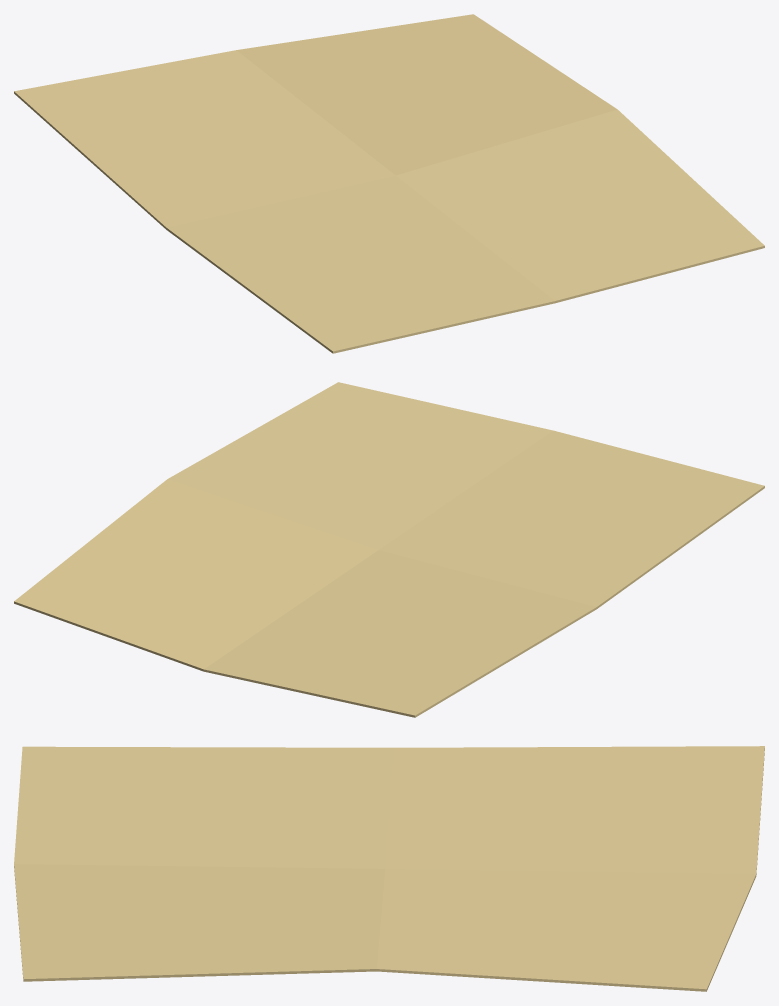
Rendered from Paper_001.fbx.
3 renders of one model, top to bottom at view 1: azimuth 30°, elevation 25°; view 2: azimuth 150°, elevation 25°; view 3: azimuth 270°, elevation 25°, orthographic. The views are drawn at different scales.
Visible parts, largest first — view 1: Paper_001; view 2: Paper_001; view 3: Paper_001.
Boxes of the visible parts, x1,y1,x2,y2 form: Paper_001: (14, 14, 764, 353); Paper_001: (14, 382, 764, 717); Paper_001: (14, 746, 764, 991).
Size of the model in its own units: 120 by 4.59 by 158.
